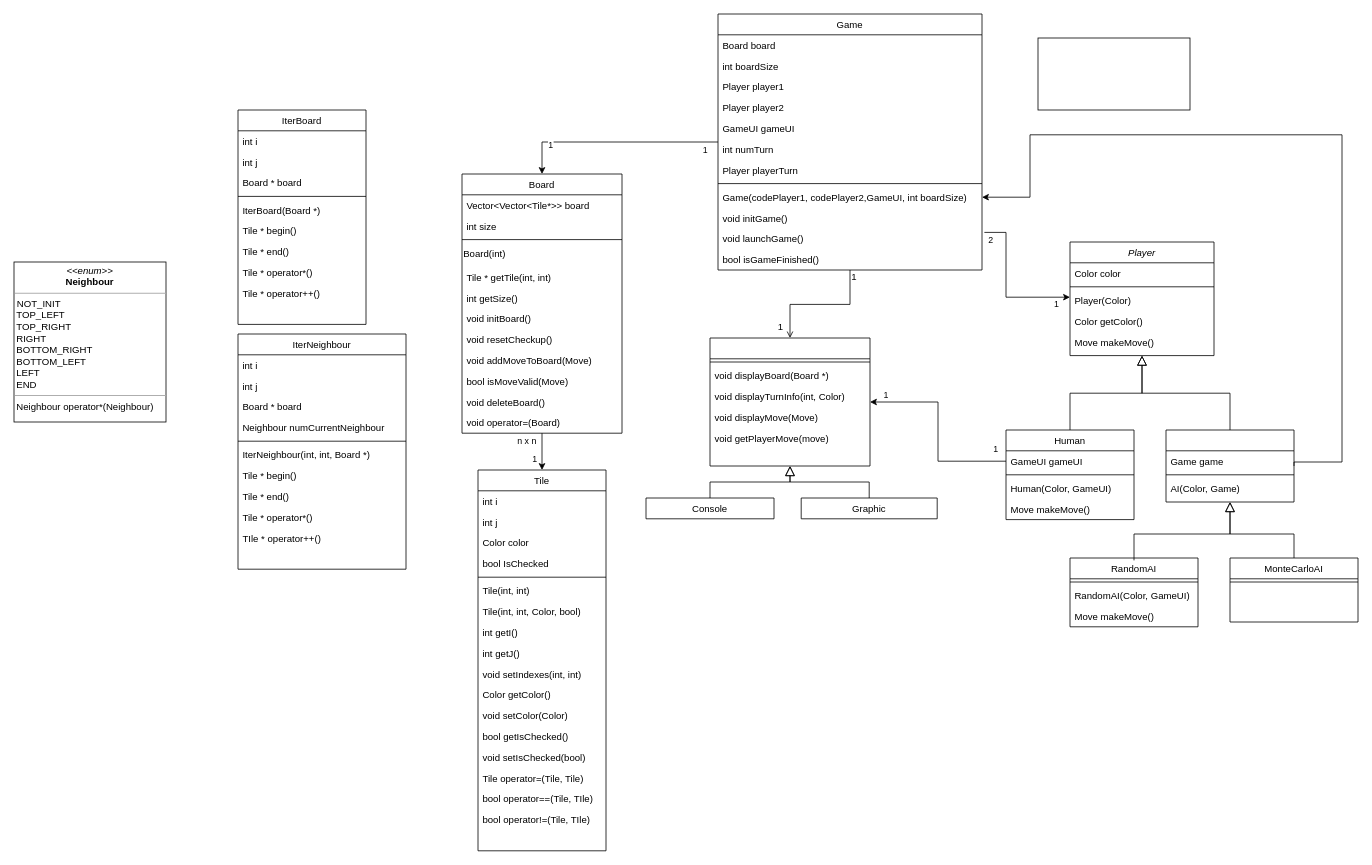
Some shapes in this 1372 by 865 pixel diagram are drawn without their labels. The box of each missing label's shape, as (x1, y1, x2, y2) in pixels:
<<Struct>> Move int x int y Color color: (1037, 37, 1190, 110)
AI: (1165, 429, 1294, 502)
Game UI: (709, 337, 870, 466)
